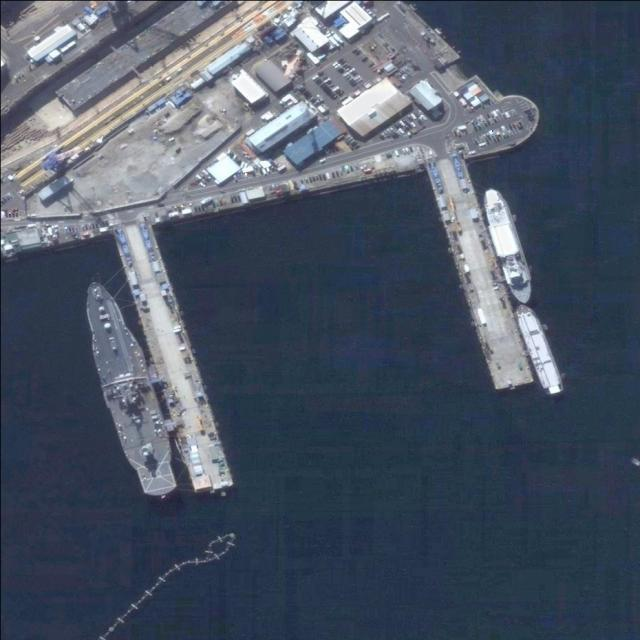Commander: (70, 273, 183, 503)
Dock: (108, 219, 235, 497), (427, 150, 534, 395)
Other Warship: (477, 181, 540, 308), (512, 300, 567, 401)
